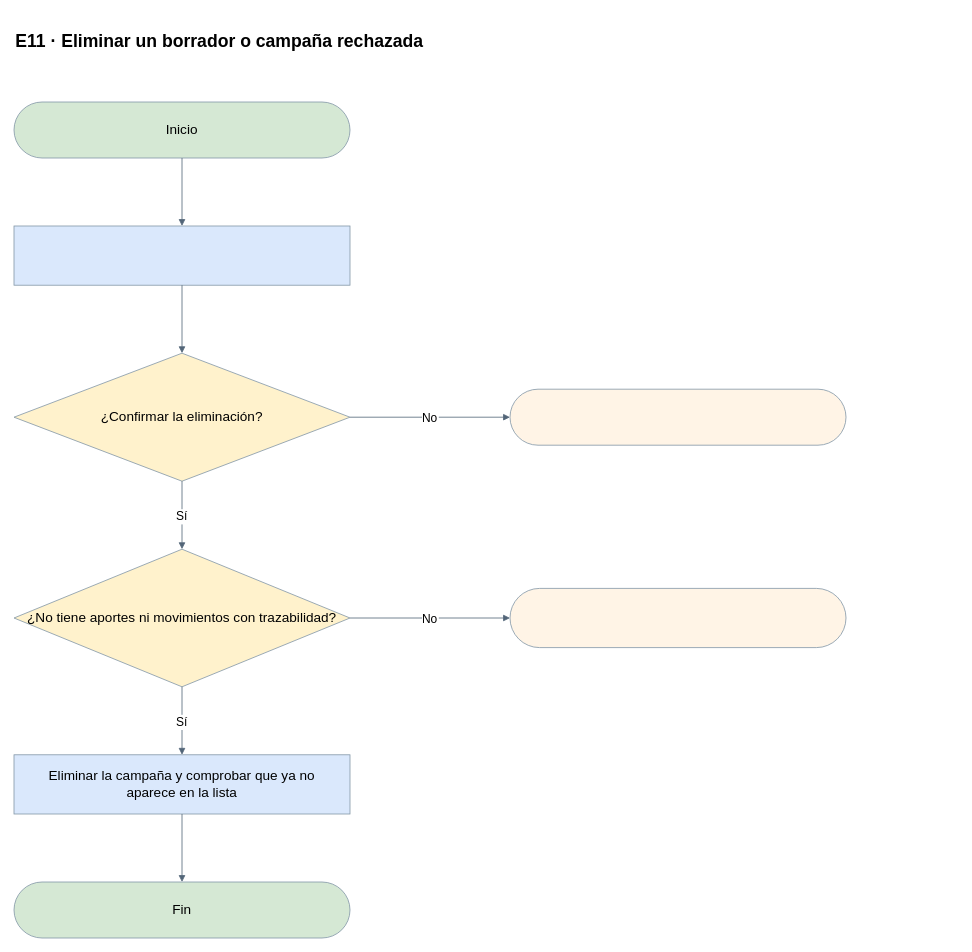
The diagram is 972 pixels wide and 952 high, and some of its shapes have lost their labels. The shapes that lost their labels are listed below. From the top down, each one's centre as x and y in pixels, then its label:
At point (181, 255): "Abrir el menú de la campaña y elegir Eliminar".
At point (677, 416): "Cancelar y regresar a la lista".
At point (677, 618): "El sistema bloquea la eliminación; conservar la campaña".
